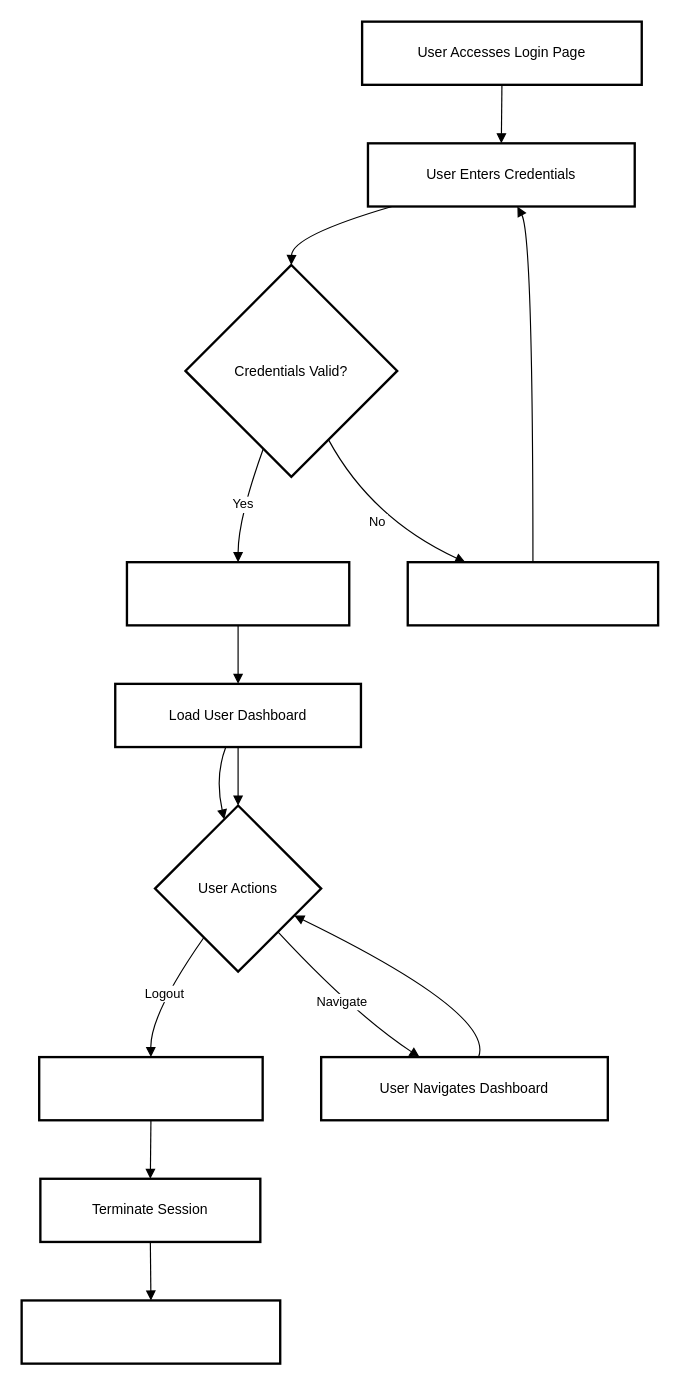
Some shapes in this 679 by 1384 pixel diagram are drawn without their labels. Here are the shapes that lost their labels. From the top down, the centre of each, then its label:
pixel 237 593: Authenticate User
pixel 532 593: Display Error Message
pixel 150 1088: User Clicks Logout
pixel 150 1331: Redirect to Login Page
